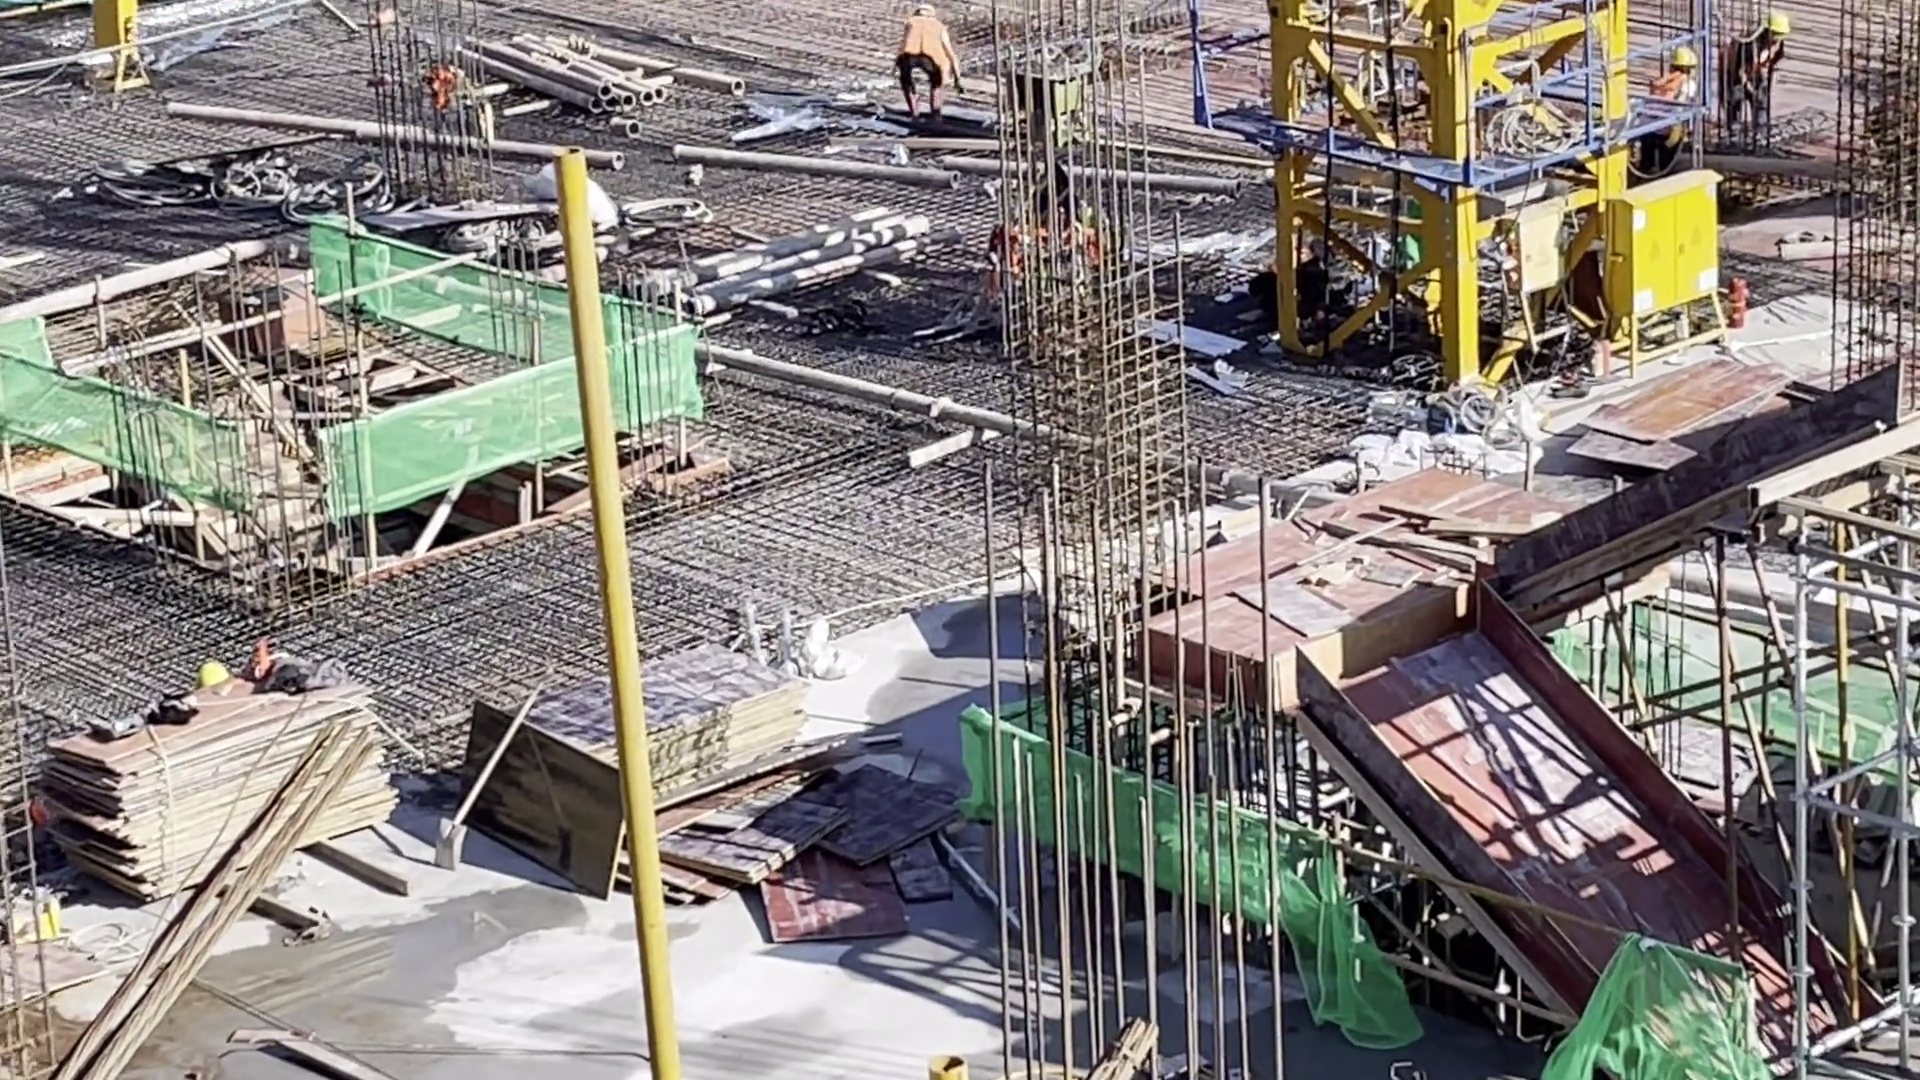helmet: (198, 660, 228, 684), (1766, 9, 1787, 34), (1672, 49, 1700, 66)
person: (899, 6, 971, 122), (1732, 11, 1793, 142), (1648, 49, 1710, 160)
vest: (904, 14, 948, 71), (1655, 69, 1688, 102)
